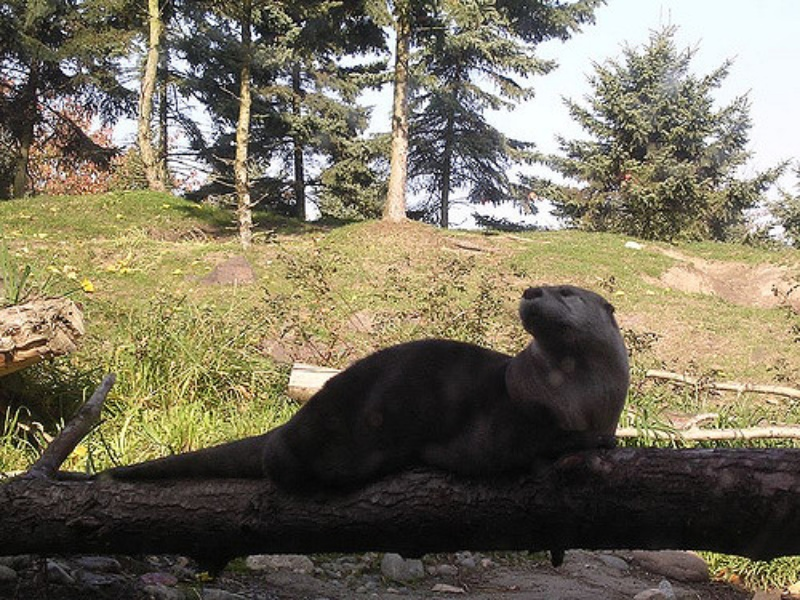minkish: (87, 284, 631, 494)
